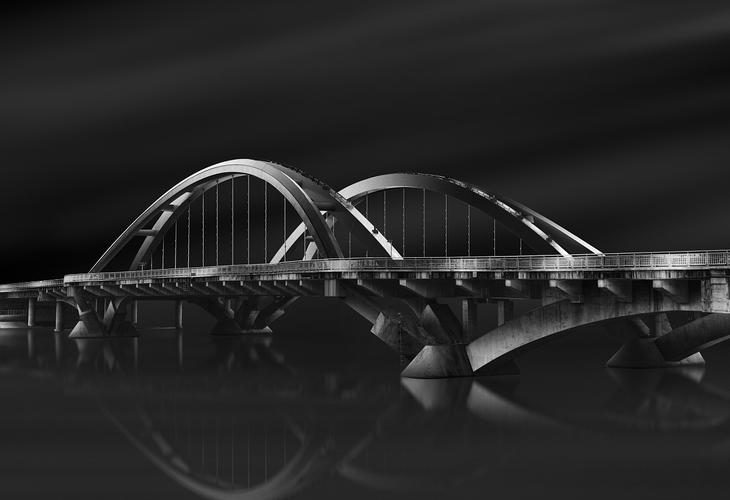buildings: (39, 159, 714, 375)
